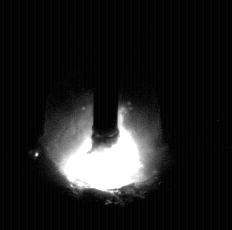arame: (93, 0, 119, 151)
poca: (41, 0, 166, 230)
